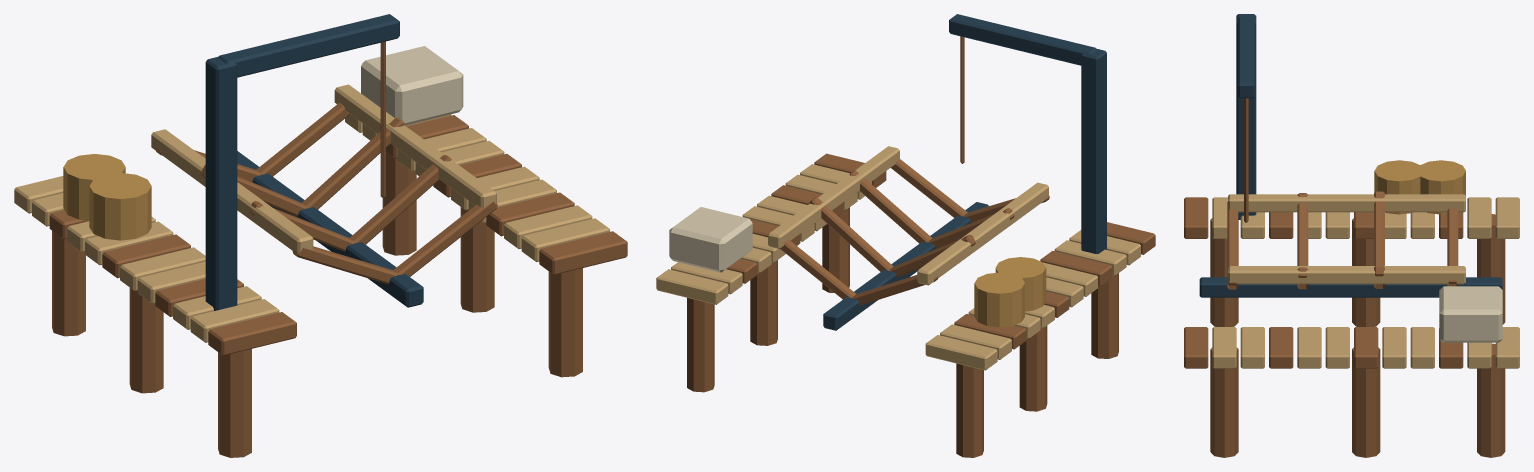
Rendered from shipyard.glb.
The picture shows the model from 3 angles, left to right: view 1: azimuth 30°, elevation 25°; view 2: azimuth 150°, elevation 25°; view 3: azimuth 270°, elevation 25°; orthographic projection. The views are drawn at different scales.
Visible parts, largest first — view 1: pile; view 2: pile; view 3: pile.
Part boxes in pixels (box(x1,y1,x2,y2)): pile: box(14, 14, 627, 457); pile: box(656, 14, 1155, 457); pile: box(1184, 14, 1519, 457).
Bounding box in the file's own units: 2.26 × 2.03 × 2.02.
